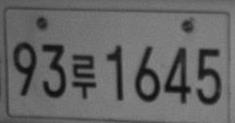1: (104, 44, 130, 100)
3: (40, 43, 67, 98)
4: (163, 47, 191, 104)
5: (195, 47, 222, 105)
6: (134, 45, 161, 102)
9: (12, 41, 37, 96)
루: (71, 53, 97, 100)
